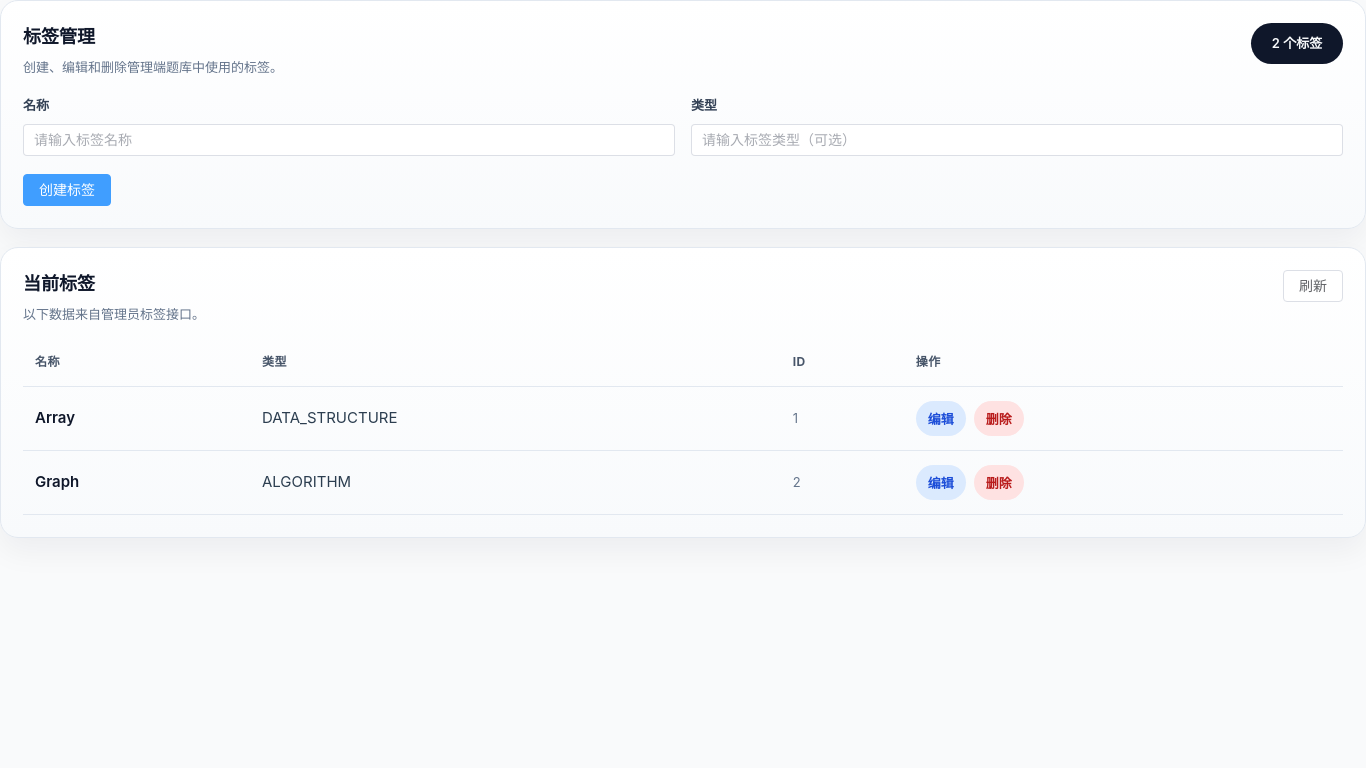
TagManagement › loads tags and creates a new tag
Step 1. Type "Greedy" into the field labelled "名称" → (349, 140), box [34,125,664,155]
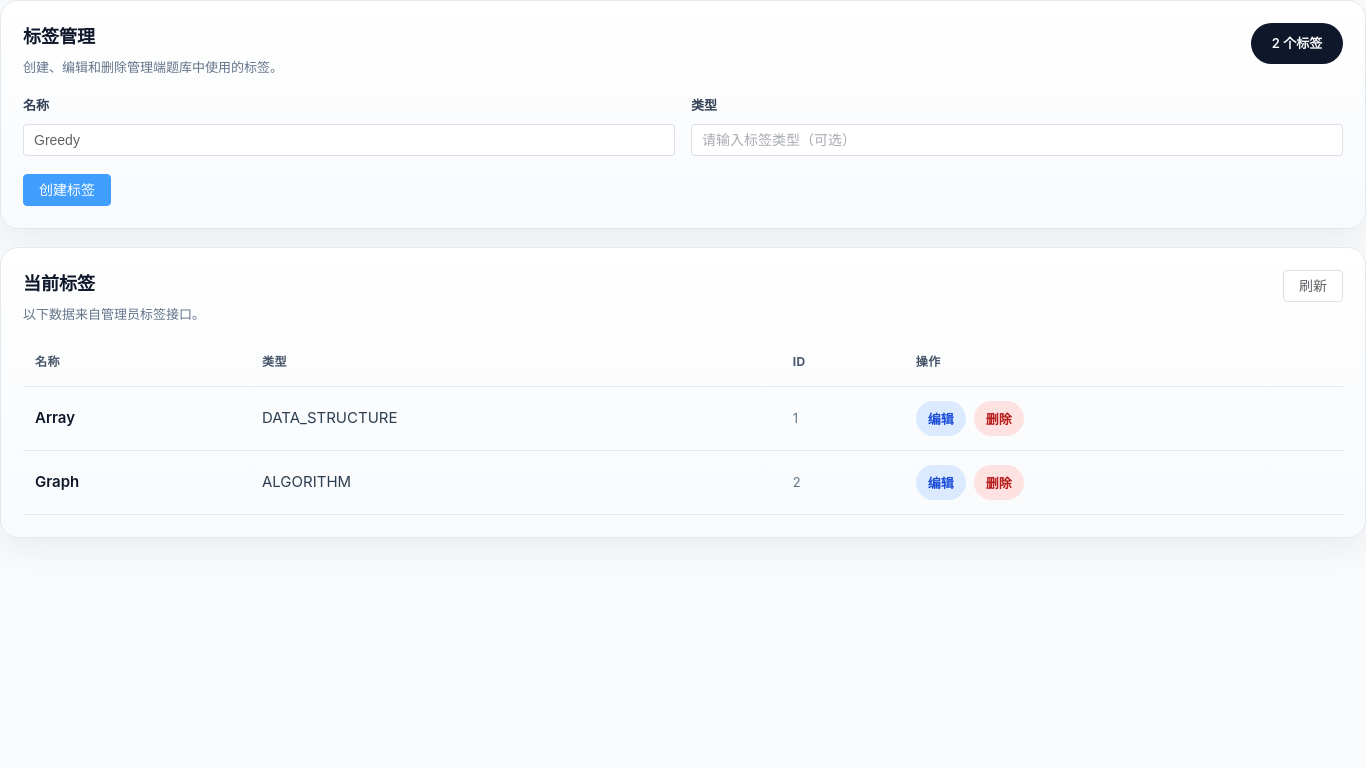
Step 2. Type "ALGORITHM" into the field labelled "类型" → (1017, 140), box [702,125,1332,155]
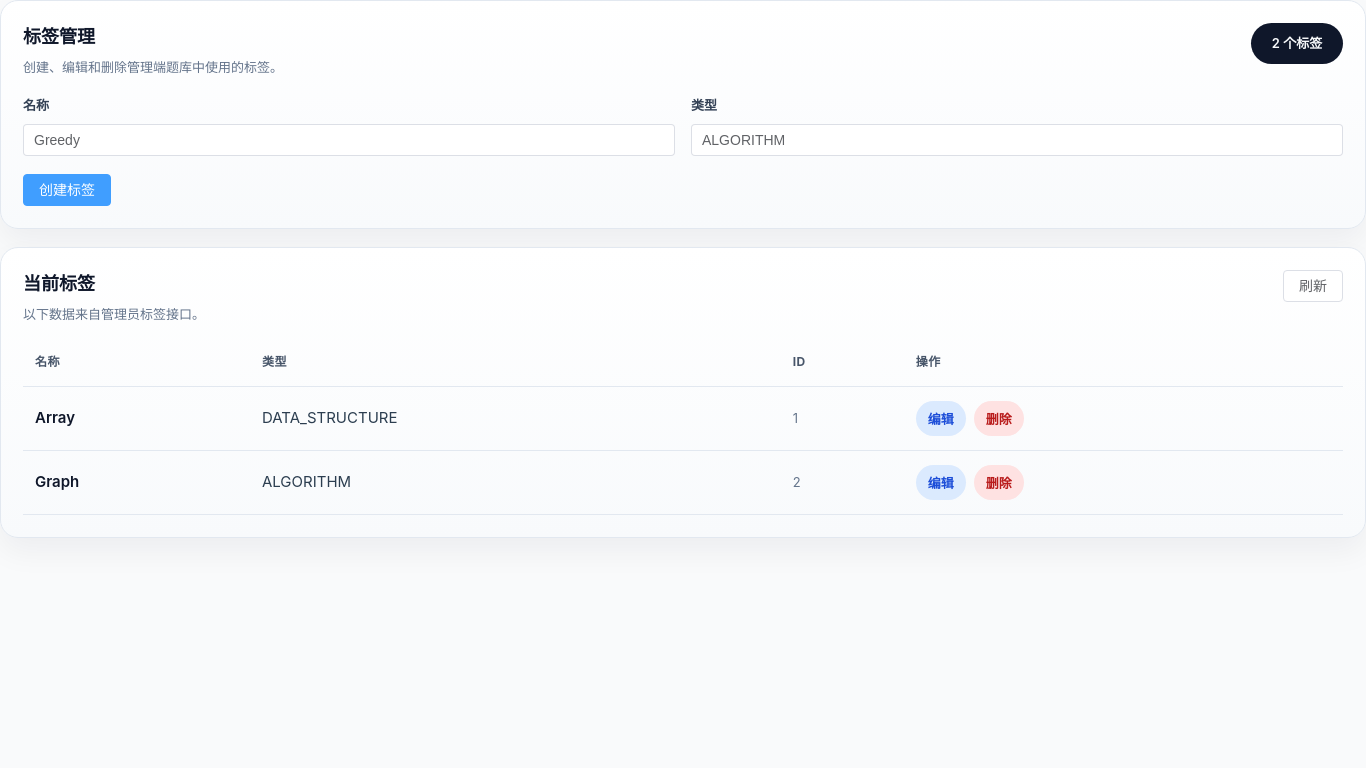
Step 3. Click the button with test id "tag-submit-button" → (67, 190), box [23,174,111,206]
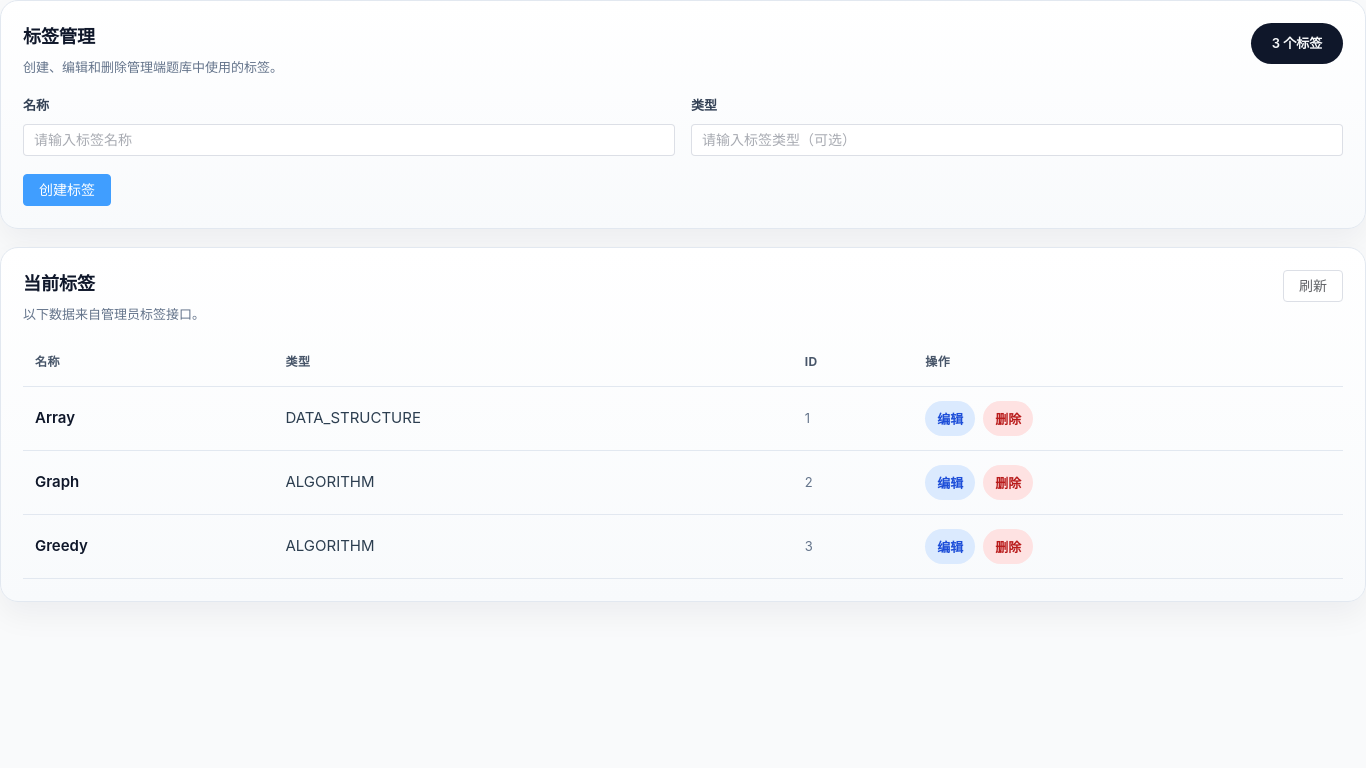
Result: the text "Greedy" is shown at [23,514,273,578]
